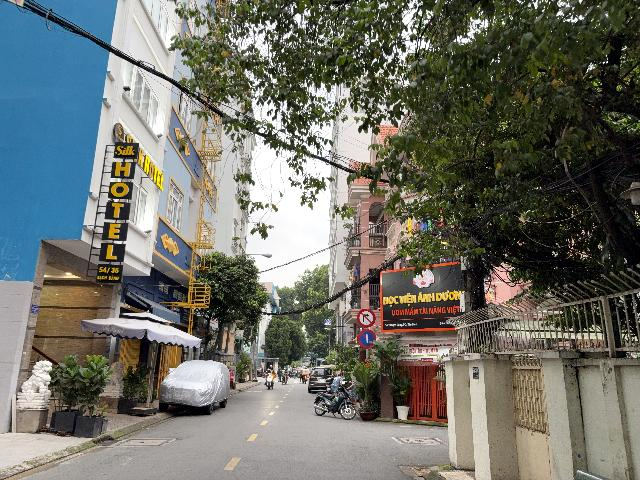cam-do-xe-ngay-le: (357, 329, 377, 349)
cam-re-phai: (357, 308, 376, 328)
